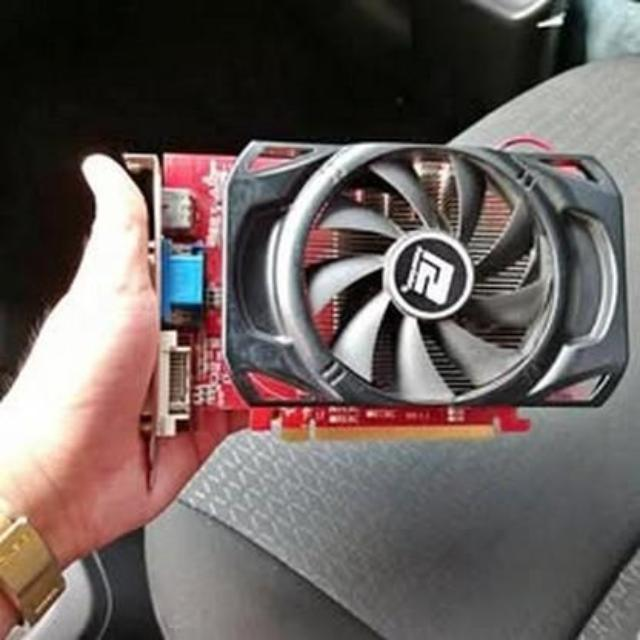GPU: (140, 124, 640, 456)
